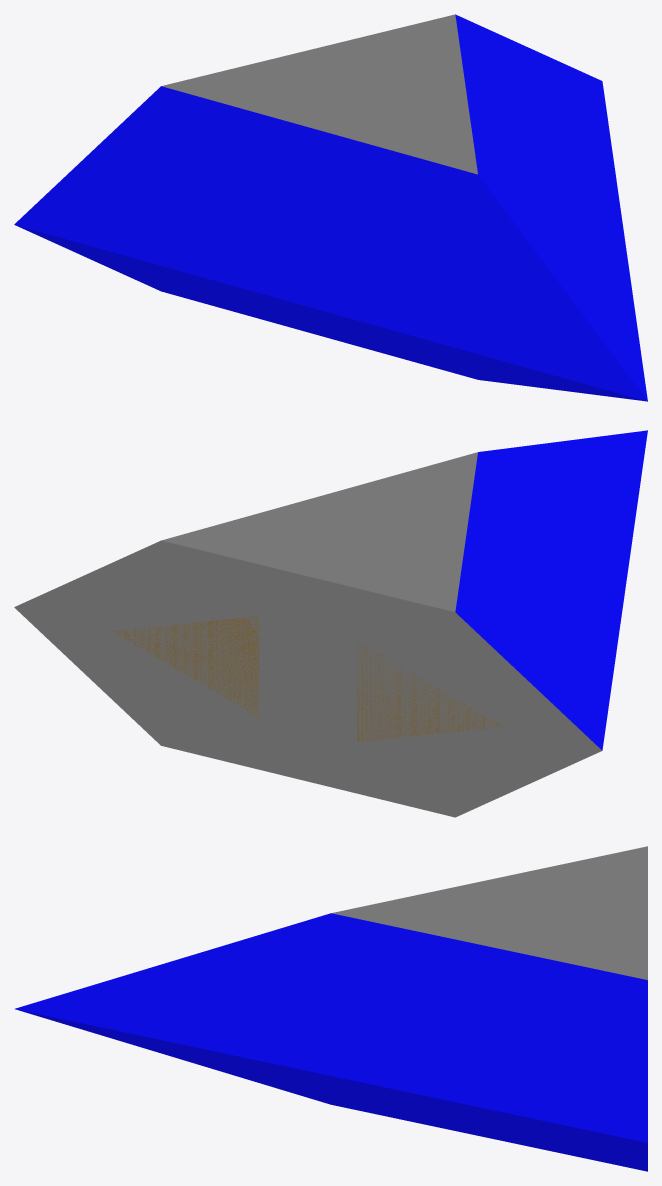
File: viper.obj
3 views of the same model, one above another, from view 1: azimuth 30°, elevation 25°; view 2: azimuth 150°, elevation 25°; view 3: azimuth 270°, elevation 25° (orthographic). The views are drawn at different scales.
Bounding box in the file's own units: 96 × 32 × 96.
